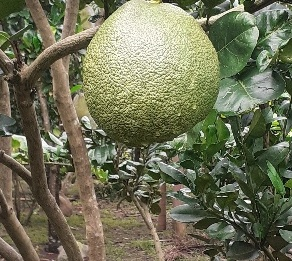Buoi: (77, 1, 225, 155)
